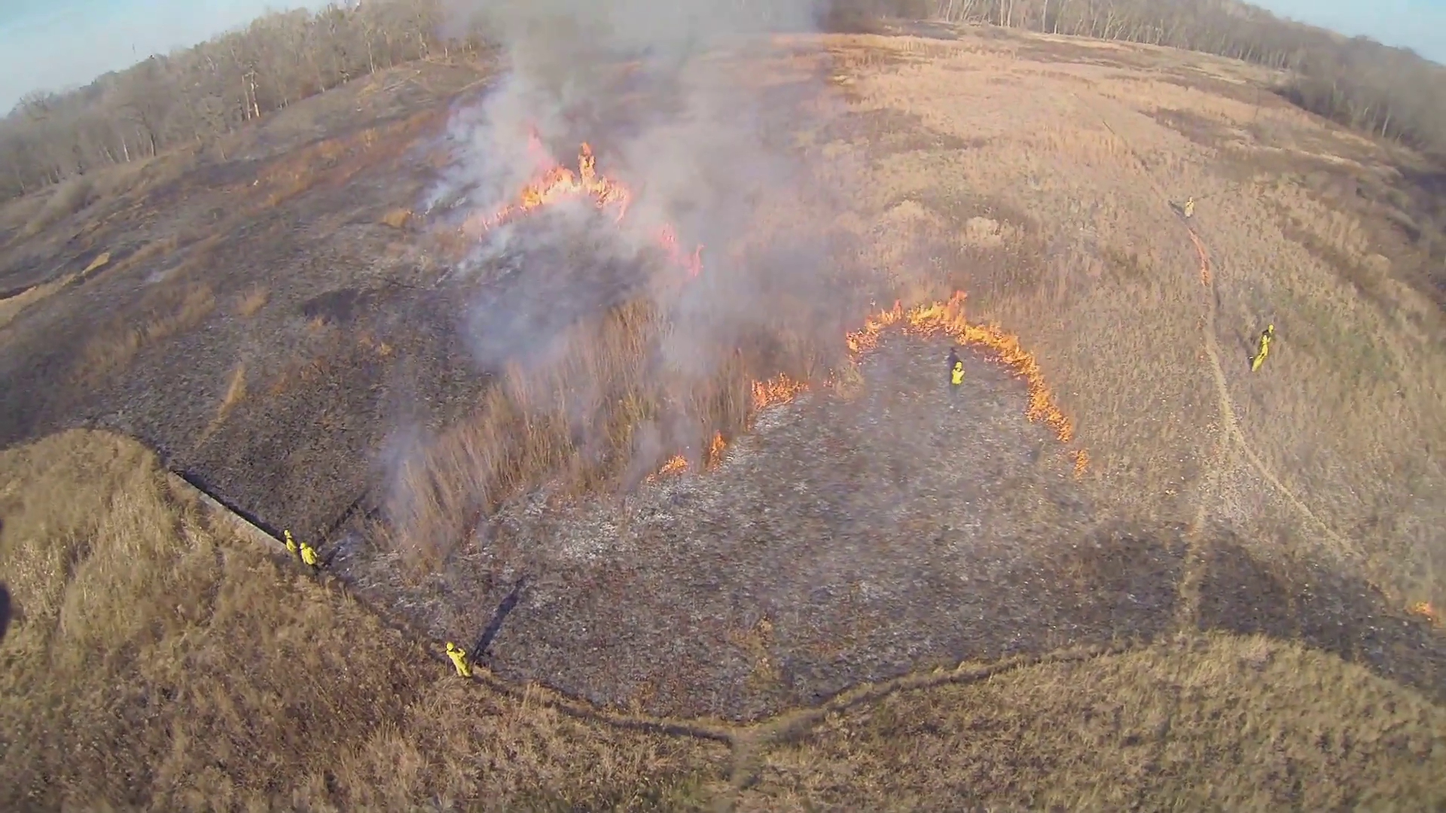forest_fire: (845, 291, 1074, 442), (477, 142, 630, 232), (656, 224, 703, 278), (750, 373, 808, 410), (646, 455, 688, 480), (704, 433, 726, 465)
